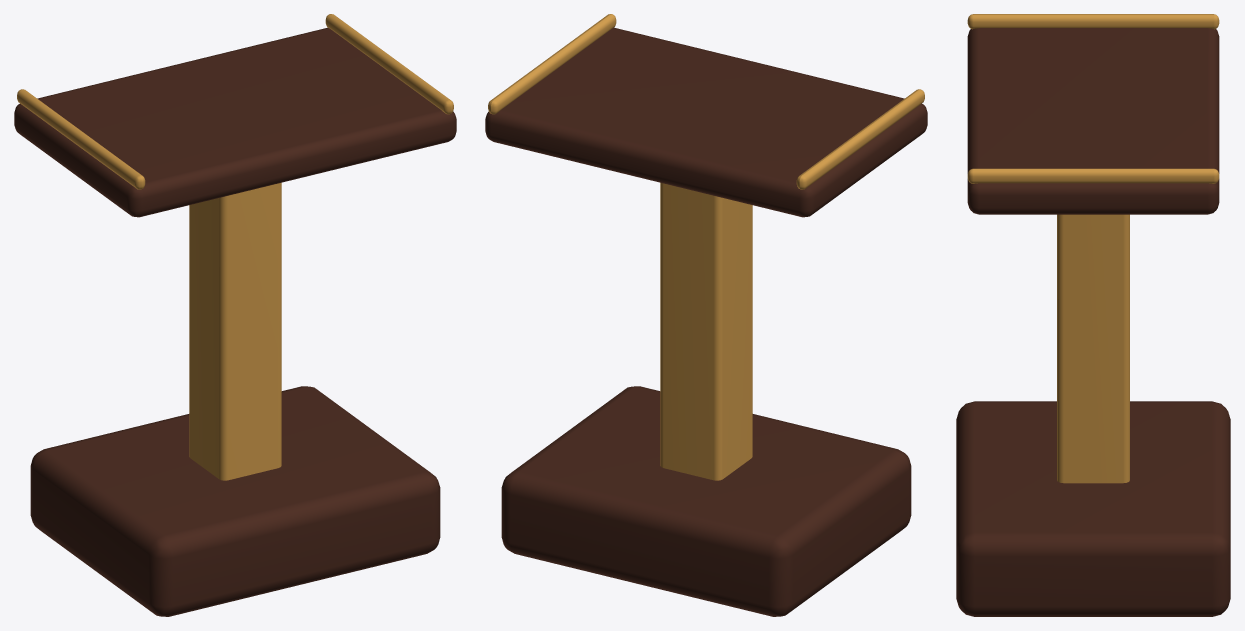
File: lectern.glb
3 renders of one model, left to right at view 1: azimuth 30°, elevation 25°; view 2: azimuth 150°, elevation 25°; view 3: azimuth 270°, elevation 25°, orthographic. The views are drawn at different scales.
Visible parts, largest first — view 1: Lectern foot, Slanted folio support, Lectern stem, Gilt lectern edge, Gilt lectern edge.001; view 2: Lectern foot, Slanted folio support, Lectern stem, Gilt lectern edge, Gilt lectern edge.001; view 3: Lectern foot, Slanted folio support, Lectern stem, Gilt lectern edge.001, Gilt lectern edge.
Boxes of the visible parts, bbox=[...] form: Lectern foot: bbox=[30, 386, 440, 616]; Slanted folio support: bbox=[14, 27, 456, 217]; Lectern stem: bbox=[189, 182, 281, 480]; Gilt lectern edge: bbox=[17, 89, 145, 189]; Gilt lectern edge.001: bbox=[325, 14, 453, 114]; Lectern foot: bbox=[501, 386, 911, 616]; Slanted folio support: bbox=[485, 27, 927, 217]; Lectern stem: bbox=[660, 182, 752, 480]; Gilt lectern edge: bbox=[796, 89, 924, 189]; Gilt lectern edge.001: bbox=[488, 14, 616, 114]; Lectern foot: bbox=[956, 401, 1230, 616]; Slanted folio support: bbox=[967, 28, 1219, 214]; Lectern stem: bbox=[1057, 214, 1129, 483]; Gilt lectern edge.001: bbox=[967, 168, 1219, 183]; Gilt lectern edge: bbox=[967, 14, 1219, 29].
Bounding box in the file's own units: 0.85 × 1.11 × 0.6.
